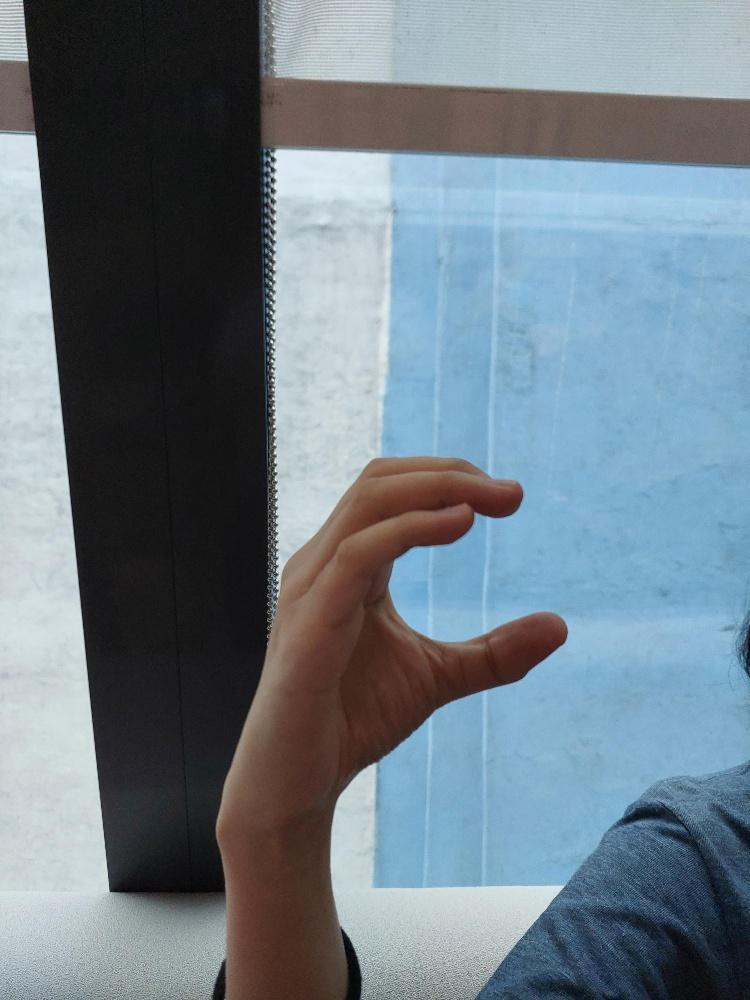c: (240, 454, 568, 796)
